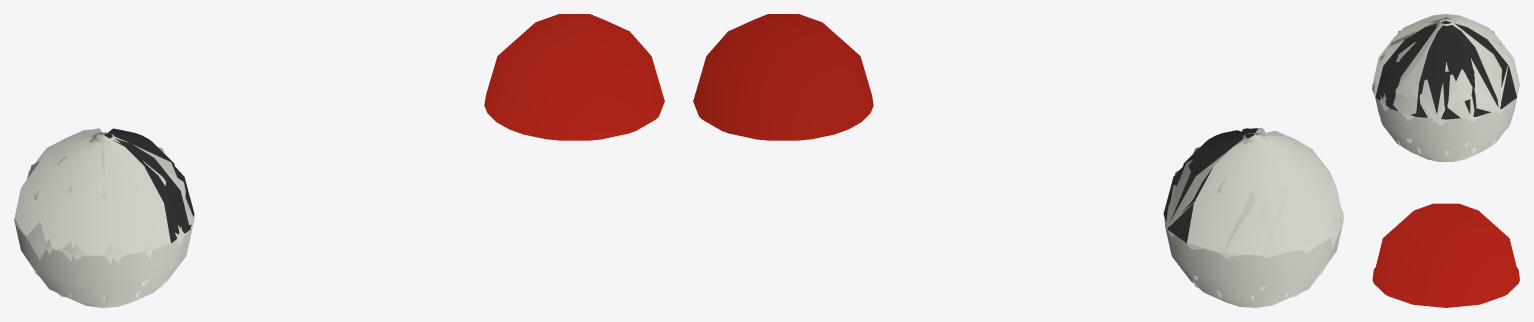
Rendered from draco-coarse.glb.
3 renders of one model, left to right at view 1: azimuth 30°, elevation 25°; view 2: azimuth 150°, elevation 25°; view 3: azimuth 270°, elevation 25°, orthographic. The views are drawn at different scales.
Visible parts, largest first — view 1: C1, D1; view 2: C1, D1; view 3: C1, D1.
Boxes of the visible parts, bbox=[...] form: C1: bbox=[14, 128, 194, 307]; D1: bbox=[484, 14, 664, 140]; C1: bbox=[1163, 127, 1343, 307]; D1: bbox=[693, 14, 873, 140]; C1: bbox=[1372, 14, 1519, 161]; D1: bbox=[1372, 203, 1519, 307].
Size of what is drawn, in the model's own units: 0.008 by 0.002 by 0.00199.
